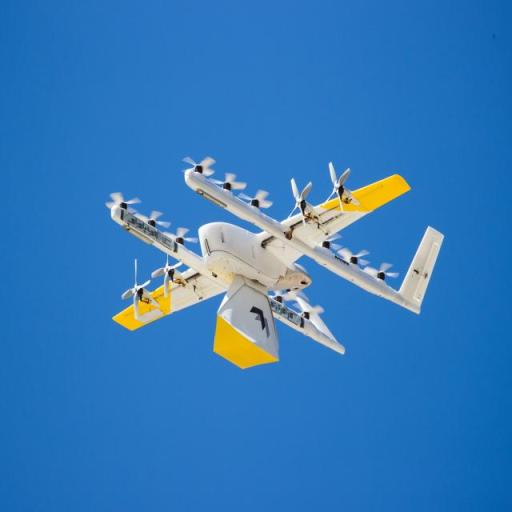uav: (92, 146, 446, 372)
